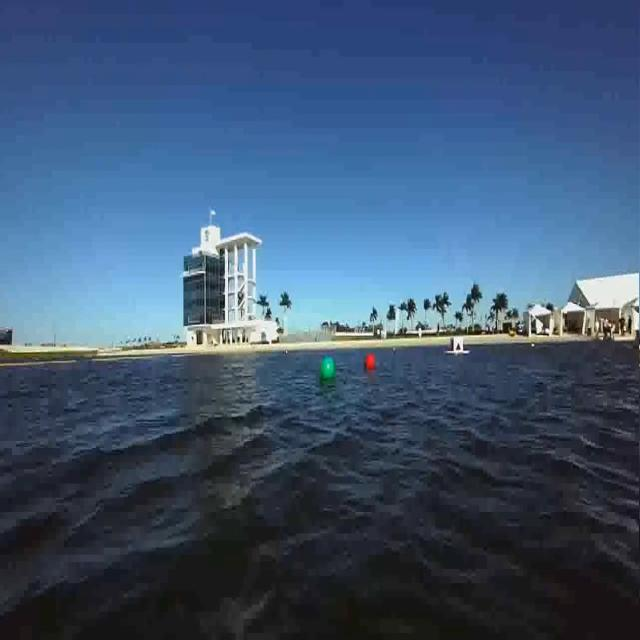green-buoy: (322, 355, 338, 380)
red-column-buoy: (365, 354, 374, 371)
